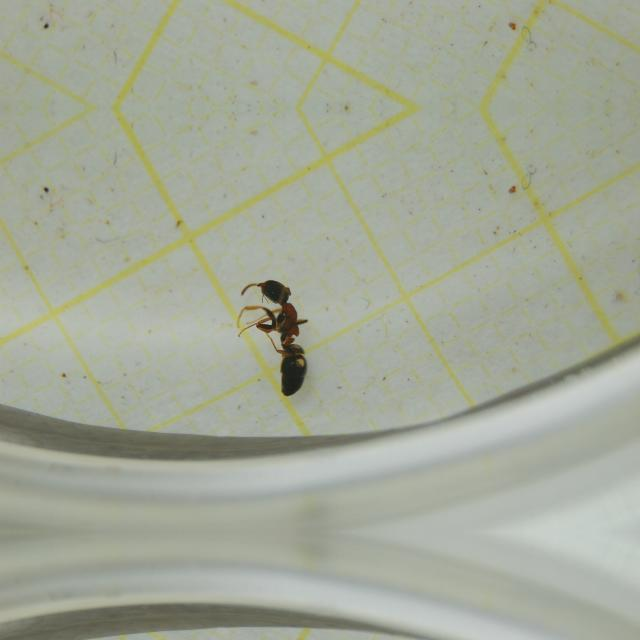Dolichoderus: (231, 263, 345, 407)
